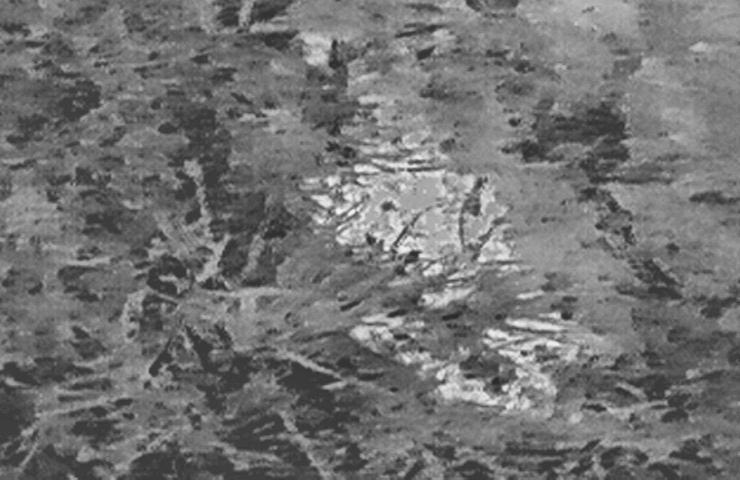landmines: (301, 126, 525, 294)
